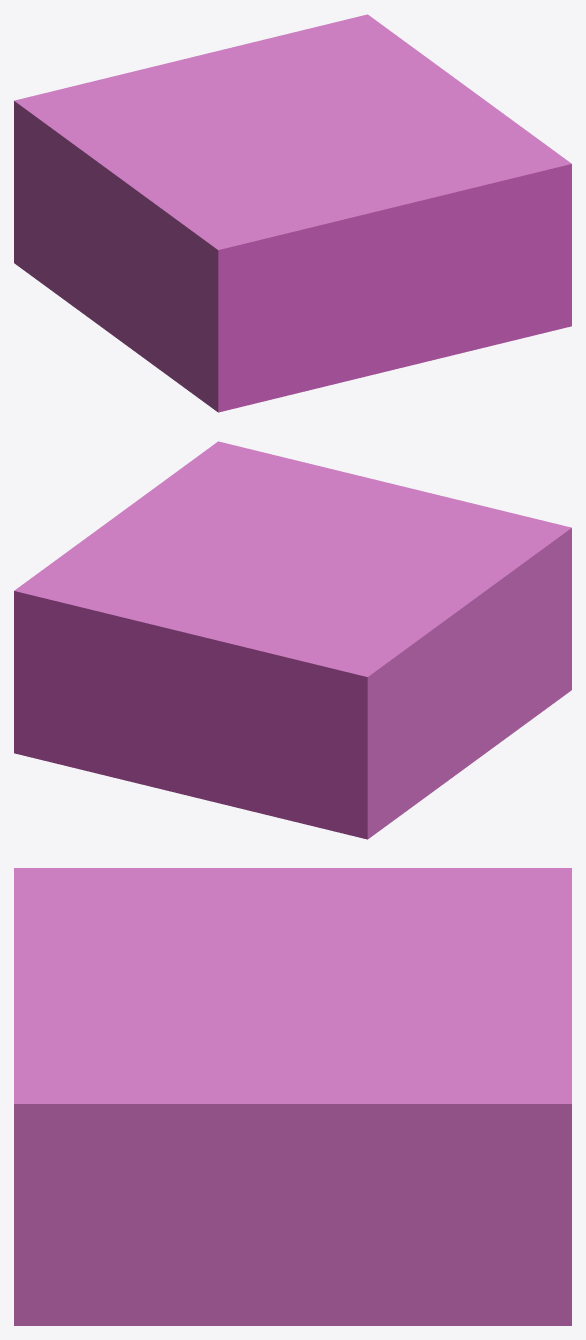
Rendered from SO_UrinalCake.fbx.
3 views of the same model, one above another, from view 1: azimuth 30°, elevation 25°; view 2: azimuth 150°, elevation 25°; view 3: azimuth 270°, elevation 25° (orthographic). The views are drawn at different scales.
Parts seen in each view (by area): view 1: SO_UrinalCake; view 2: SO_UrinalCake; view 3: SO_UrinalCake.
Boxes of the visible parts, box(x1,y1,x2,y2) form: SO_UrinalCake: box(14, 14, 571, 412); SO_UrinalCake: box(14, 441, 571, 839); SO_UrinalCake: box(14, 868, 571, 1325).
Size of the model in its own units: 0.0978 by 0.0429 by 0.0978.
